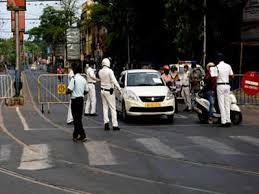mask: (90, 59, 97, 68), (183, 64, 188, 72), (165, 67, 171, 73)
